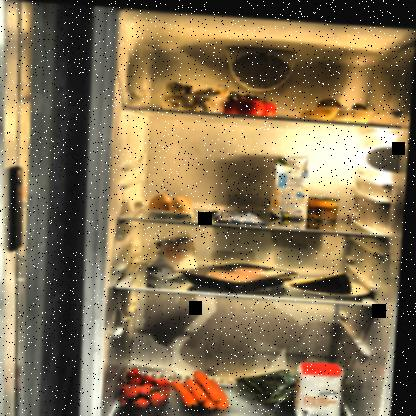carrot: (172, 366, 237, 407)
cheese: (290, 265, 357, 290)
chicken: (205, 260, 278, 286)
chocolate: (212, 206, 270, 222)
corn: (310, 192, 342, 219)
eggs: (149, 190, 196, 214)
green_beans: (238, 361, 305, 414)
milk: (273, 150, 313, 218)
mushrooms: (160, 77, 233, 111)
potato: (309, 91, 373, 119)
strawberries: (119, 363, 177, 408)
tomato: (223, 87, 282, 114)
